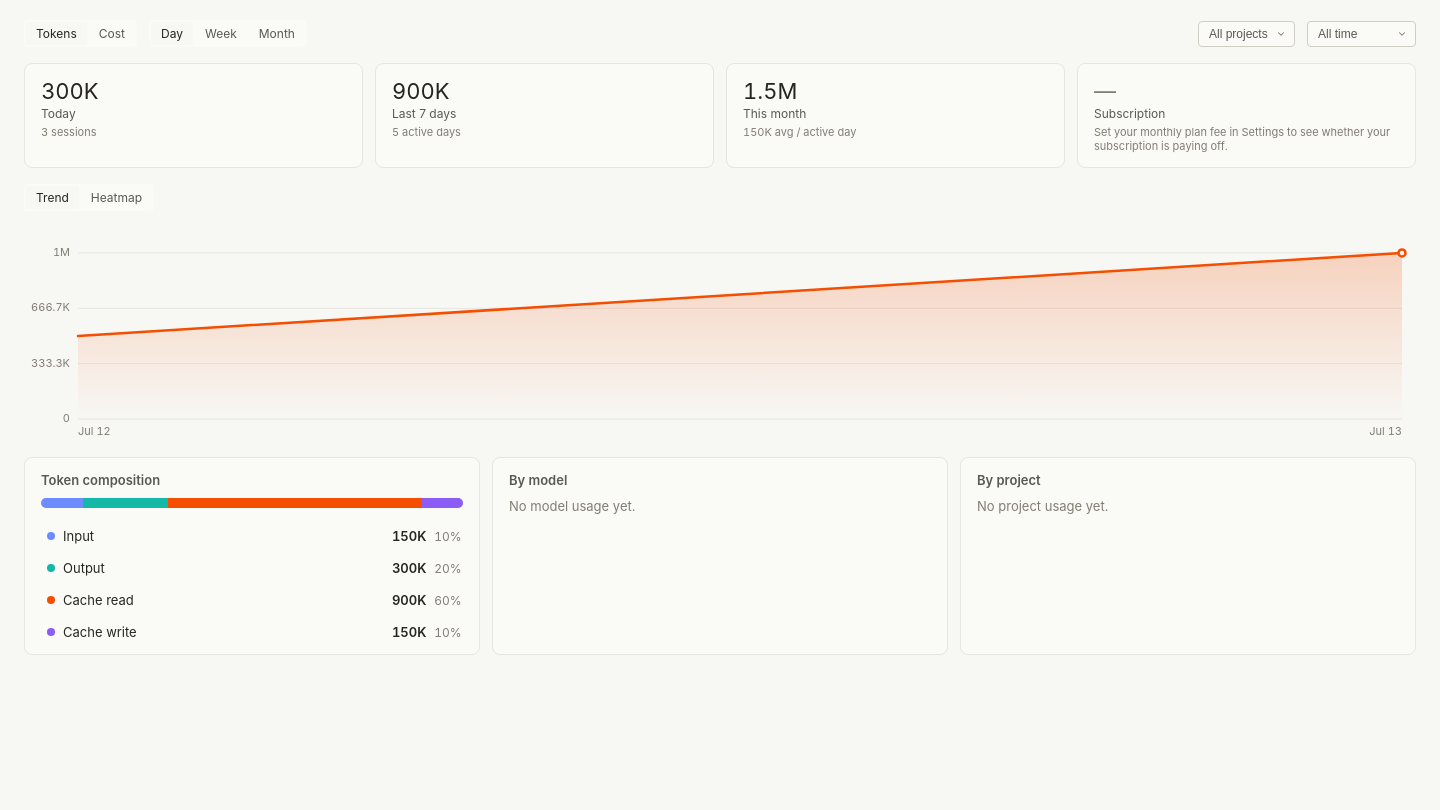
Test: UsageDashboard › switches the plotted metric when the Cost toggle is clicked
Click the button "Cost": point(112, 34) [89,22,135,45]
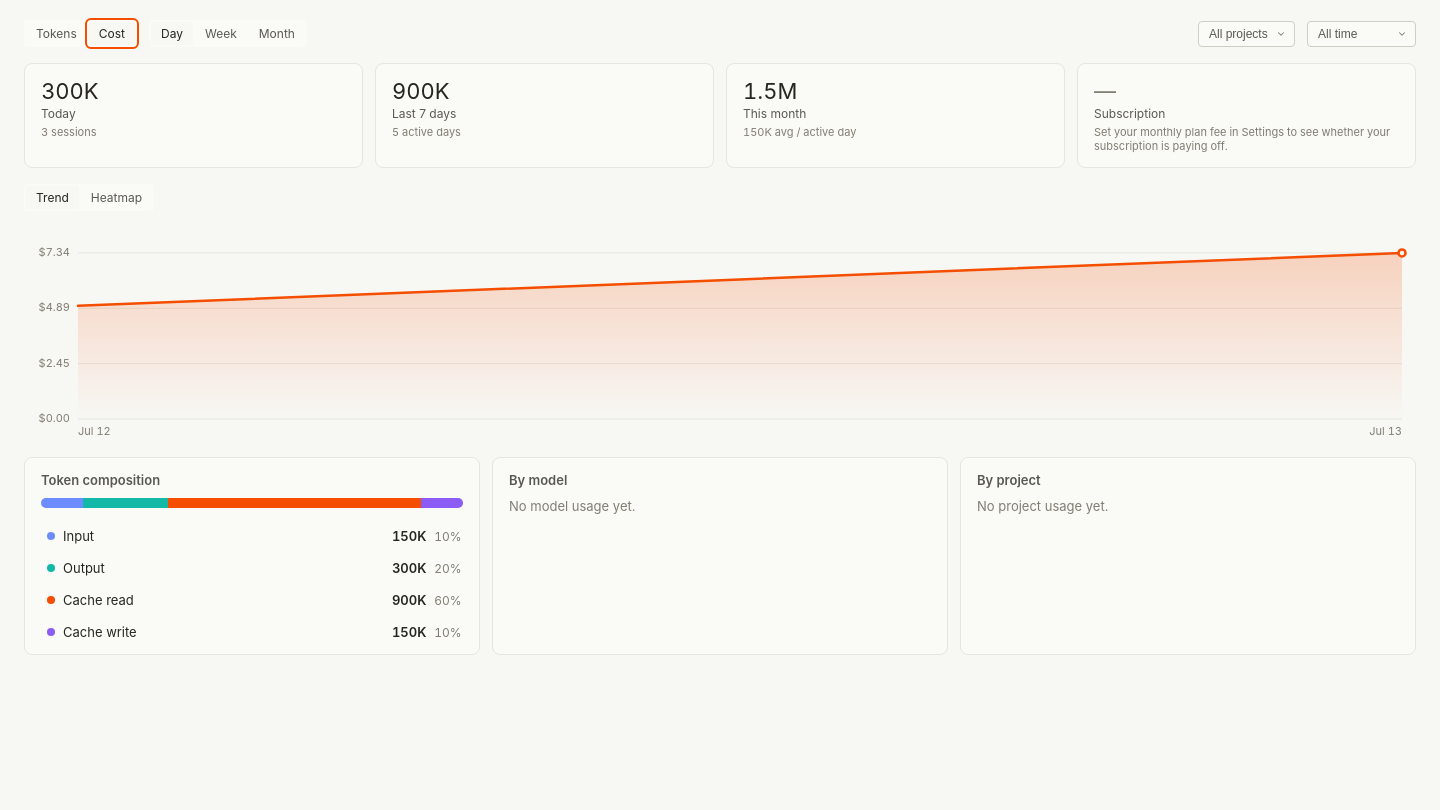
Result: the picture named "usage trend by cost" is shown at [24,221,1416,441]
